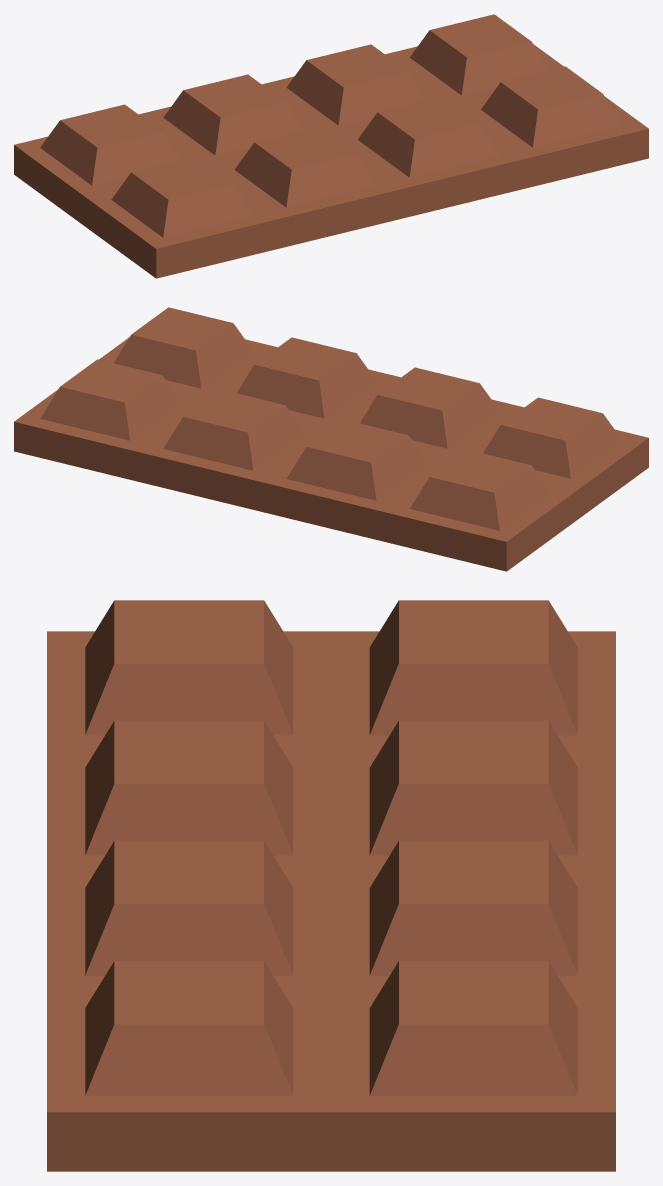
The model's file is chocolate.fbx.
3 renders of one model, top to bottom at view 1: azimuth 30°, elevation 25°; view 2: azimuth 150°, elevation 25°; view 3: azimuth 270°, elevation 25°, orthographic. The views are drawn at different scales.
Visible parts, largest first — view 1: chocolate; view 2: chocolate; view 3: chocolate.
Boxes of the visible parts, x1,y1,x2,y2 form: chocolate: (14,14,648,278); chocolate: (14,307,648,571); chocolate: (47,600,615,1171).
Size of the model in its own units: 2.92 by 0.3374 by 1.46.
